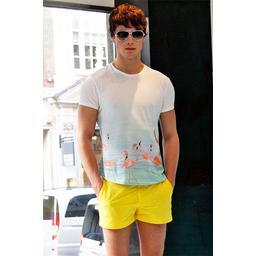Tshirt: (77, 61, 176, 187)
short: (96, 180, 173, 230)
